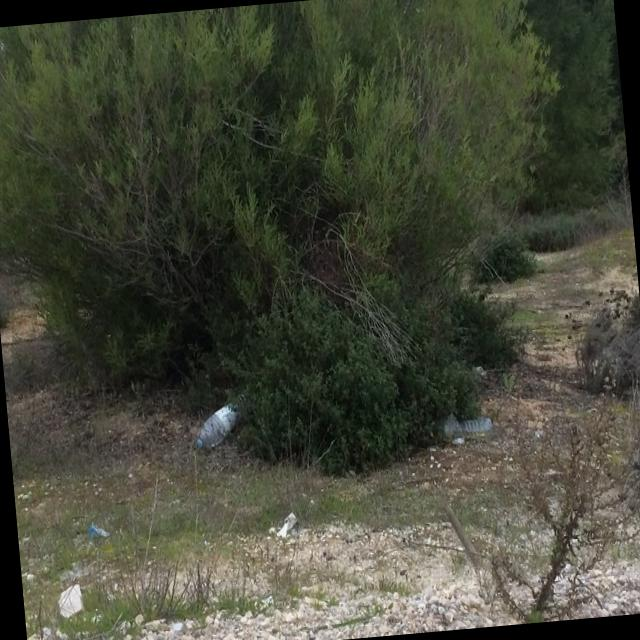Recycle: (188, 396, 248, 454), (424, 412, 498, 448)
Trash: (264, 508, 312, 554), (52, 580, 90, 620), (82, 520, 120, 548)
